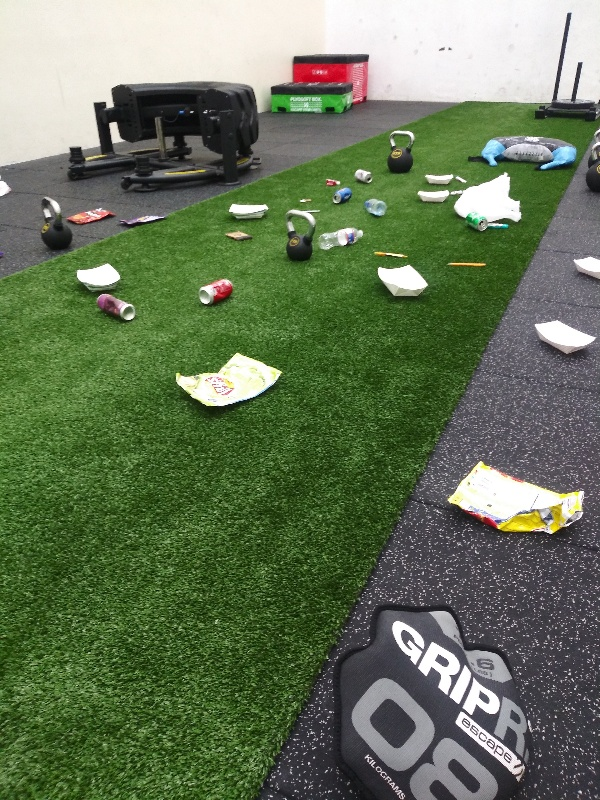bag: (441, 457, 591, 537), (170, 351, 286, 410), (62, 205, 117, 227), (117, 212, 167, 228)
bottle: (314, 225, 367, 252), (360, 197, 391, 220)
can: (90, 292, 138, 324), (192, 276, 238, 306), (460, 209, 490, 233), (328, 185, 354, 207), (350, 166, 377, 187)
plate: (529, 316, 597, 358), (373, 258, 431, 301), (70, 259, 122, 295), (224, 195, 272, 218), (566, 253, 600, 281), (411, 185, 453, 206), (420, 168, 459, 187)
